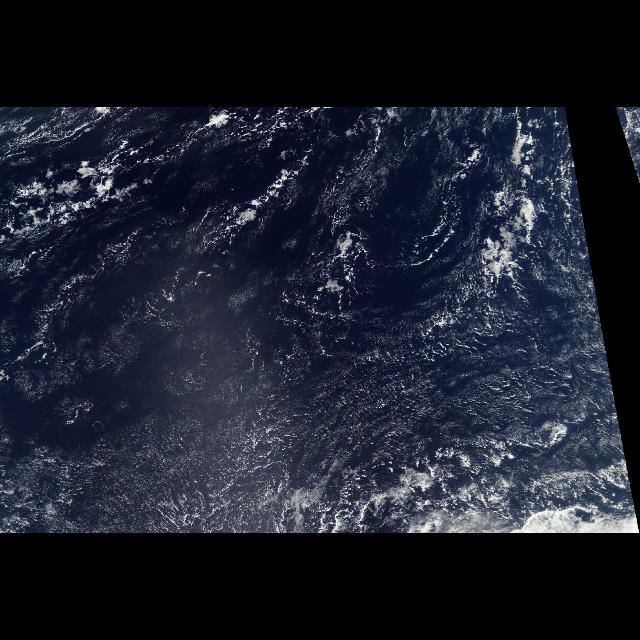Gravel: (393, 116, 577, 460)
Sugar: (8, 276, 616, 532)
